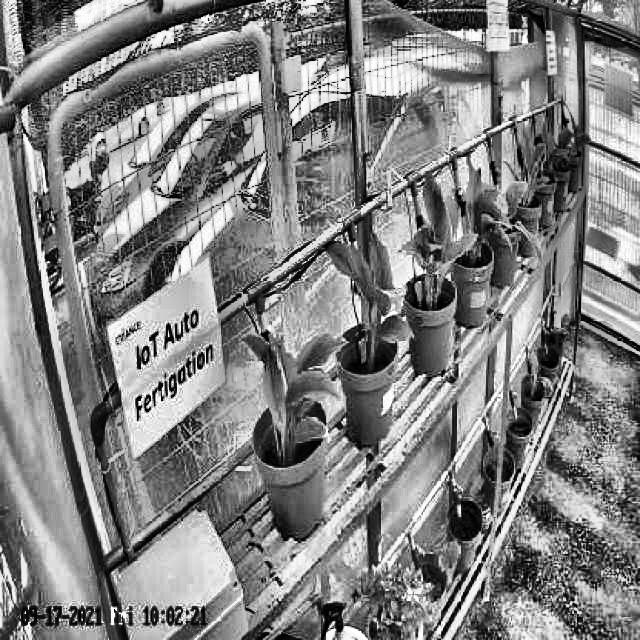plants: (242, 329, 342, 454), (320, 237, 414, 366), (402, 174, 478, 318), (456, 174, 542, 272)
